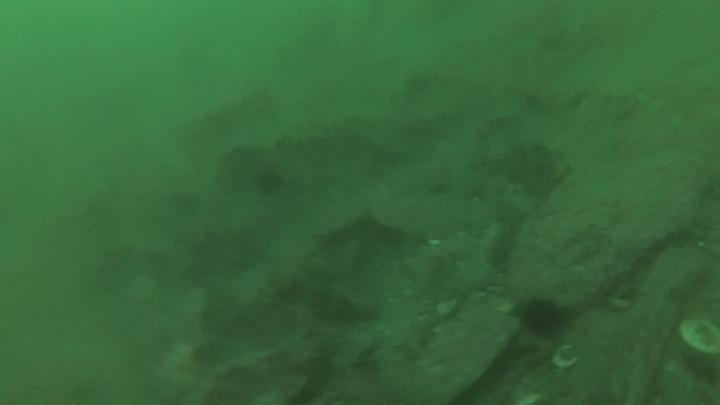echinus: (518, 296, 567, 339), (252, 166, 285, 198)
